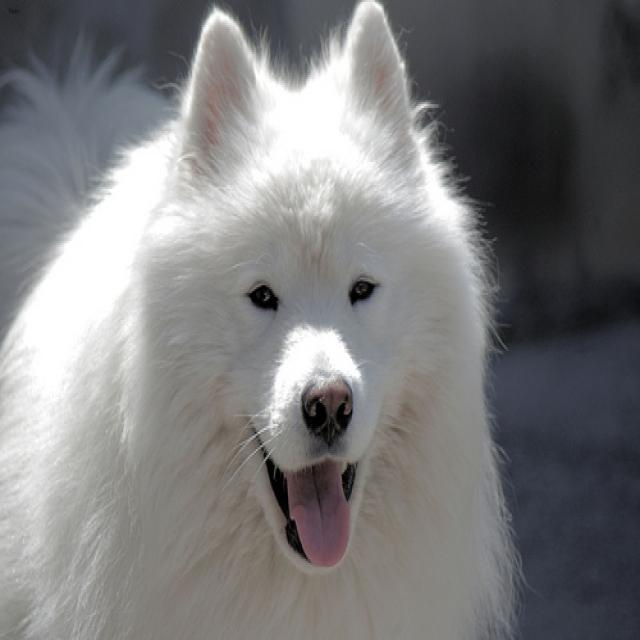dog-samoyed: (1, 2, 530, 636)
